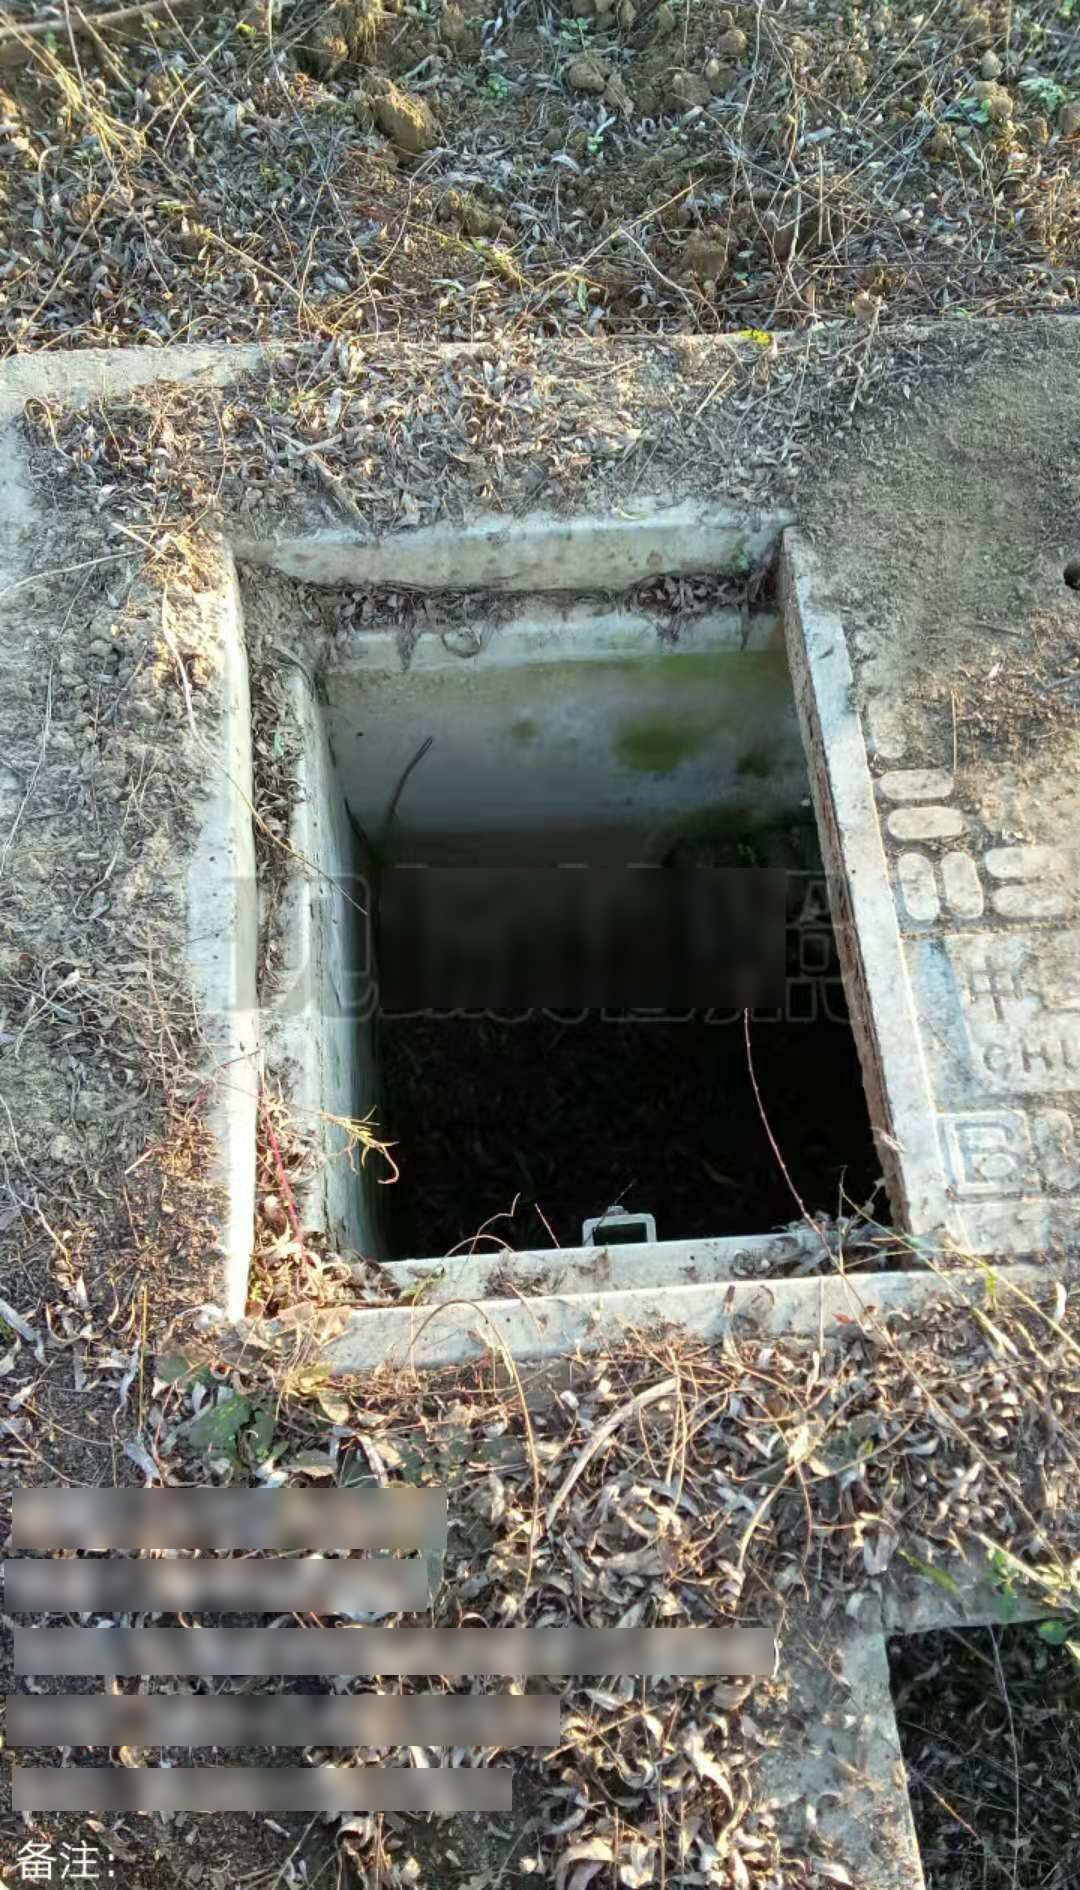lose: (190, 498, 955, 1362)
